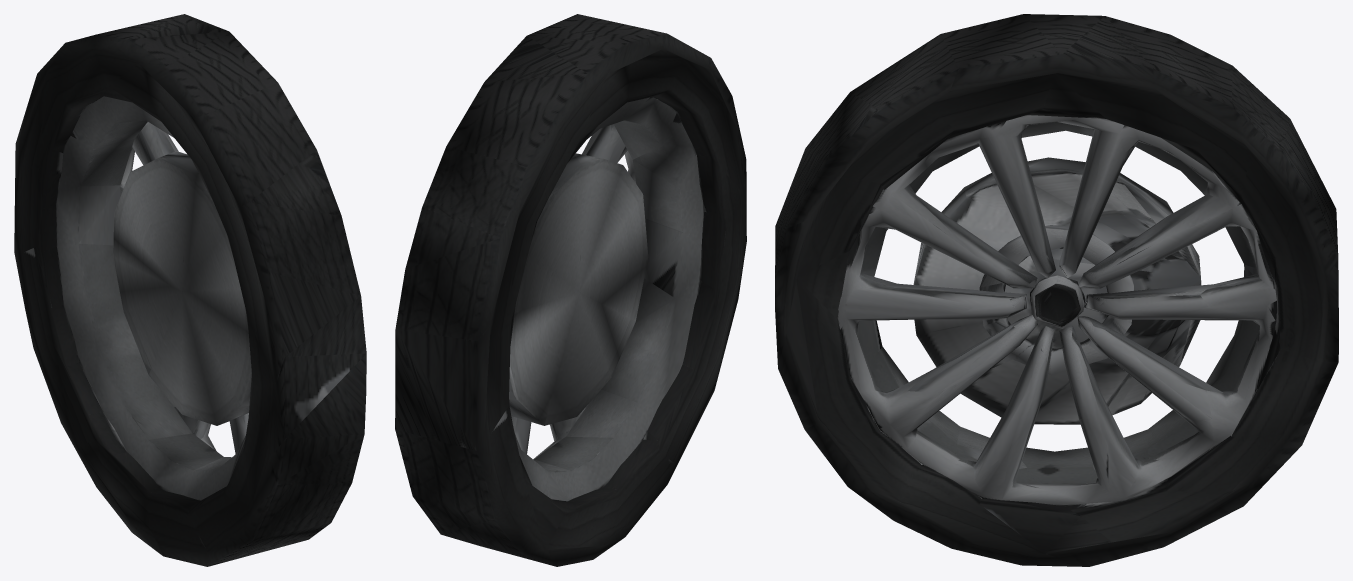
File: wheel_2.obj
3 views of the same model, side by side, from view 1: azimuth 30°, elevation 25°; view 2: azimuth 150°, elevation 25°; view 3: azimuth 270°, elevation 25° (orthographic). The views are drawn at different scales.
Parts seen in each view (by area): view 1: wheel; view 2: wheel; view 3: wheel.
Boxes of the visible parts, box(x1,y1,x2,y2) form: wheel: box(14, 14, 366, 566); wheel: box(395, 14, 746, 566); wheel: box(775, 14, 1338, 566).
Bounding box in the file's own units: 0.1445 × 0.7001 × 0.6967.
